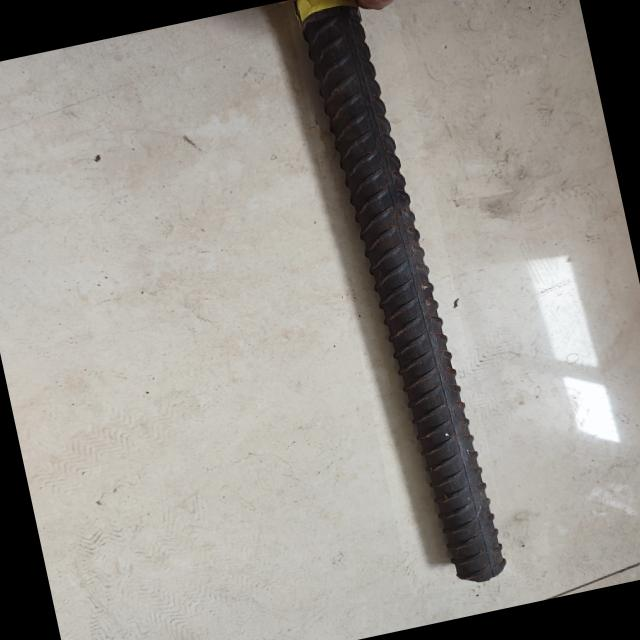ribbed bar: (285, 0, 515, 597)
